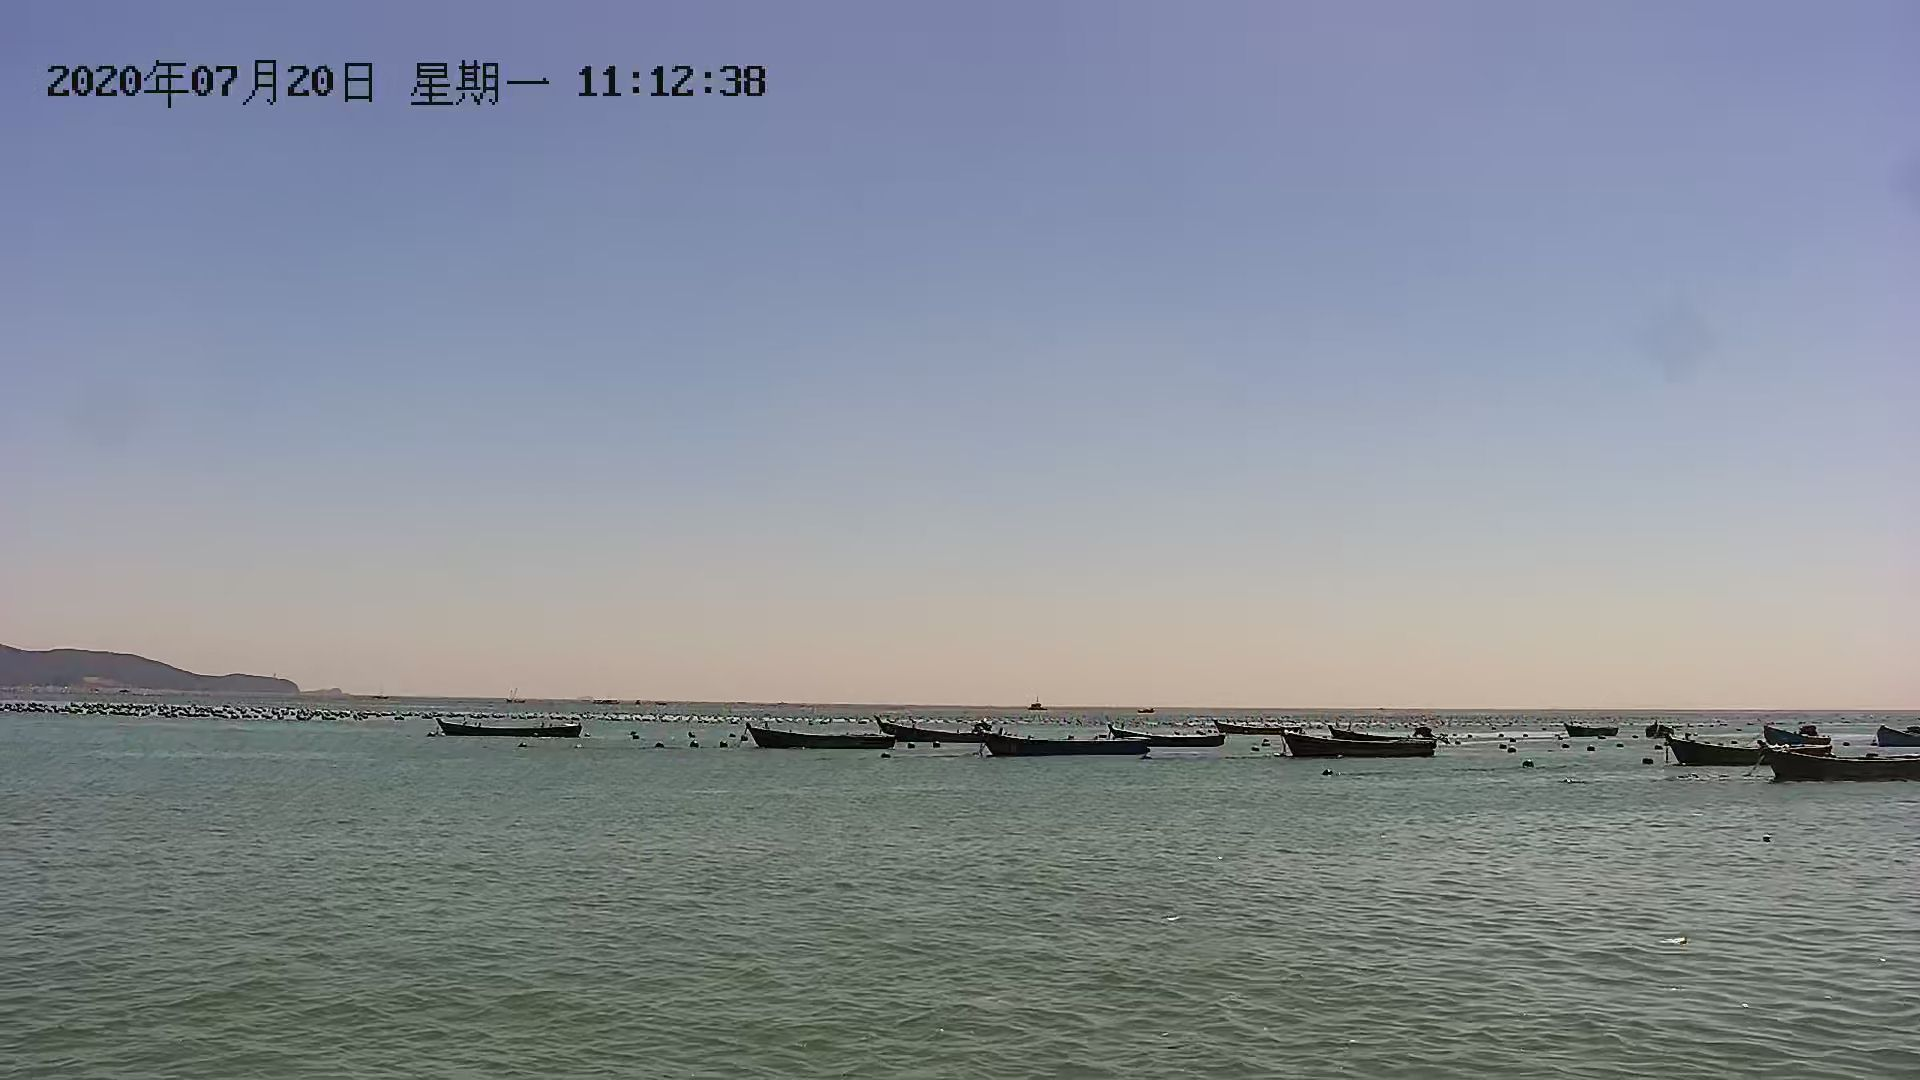boat: (735, 719, 901, 761), (1770, 746, 1920, 793), (1276, 721, 1451, 758), (1671, 735, 1838, 769), (978, 731, 1149, 762), (429, 715, 591, 745), (1104, 723, 1233, 749), (873, 713, 997, 738)
rock: (1, 640, 338, 705)
